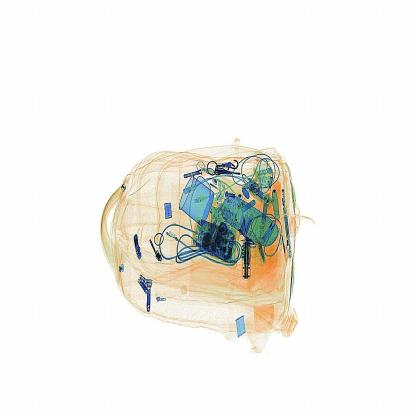scissors: (234, 228, 262, 293)
